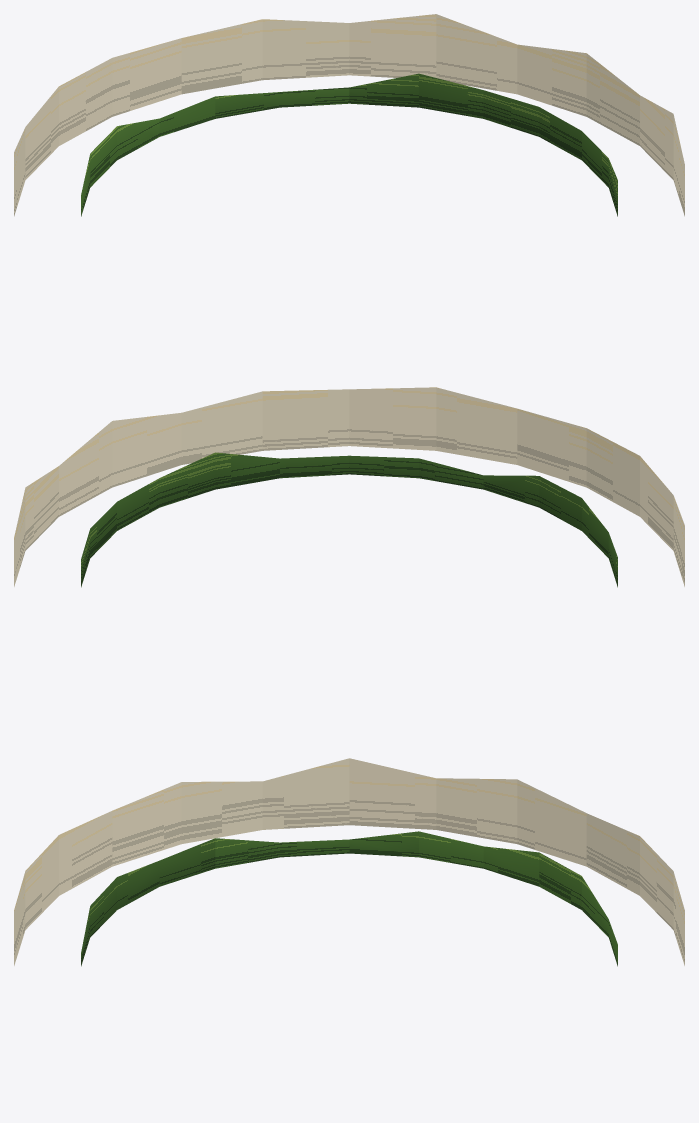
The model's file is mter.backdrop__mountains.glb.
The picture shows the model from 3 angles, top to bottom: view 1: azimuth 30°, elevation 25°; view 2: azimuth 150°, elevation 25°; view 3: azimuth 270°, elevation 25°; orthographic projection.
Parts seen in each view (by area): view 1: kit_shell_vista_far, kit_shell_vista; view 2: kit_shell_vista_far, kit_shell_vista; view 3: kit_shell_vista_far, kit_shell_vista.
Part boxes in pixels (box(x1,y1,x2,y2)): kit_shell_vista_far: box(14, 14, 684, 216); kit_shell_vista: box(81, 73, 617, 216); kit_shell_vista_far: box(14, 387, 684, 586); kit_shell_vista: box(81, 452, 617, 587); kit_shell_vista_far: box(14, 758, 684, 965); kit_shell_vista: box(81, 831, 617, 966).
Size of the model in its own units: 650 by 71.56 by 650.
2 materials, 2 textured.
